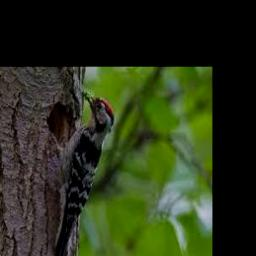Woodpecker: (47, 90, 114, 256)
